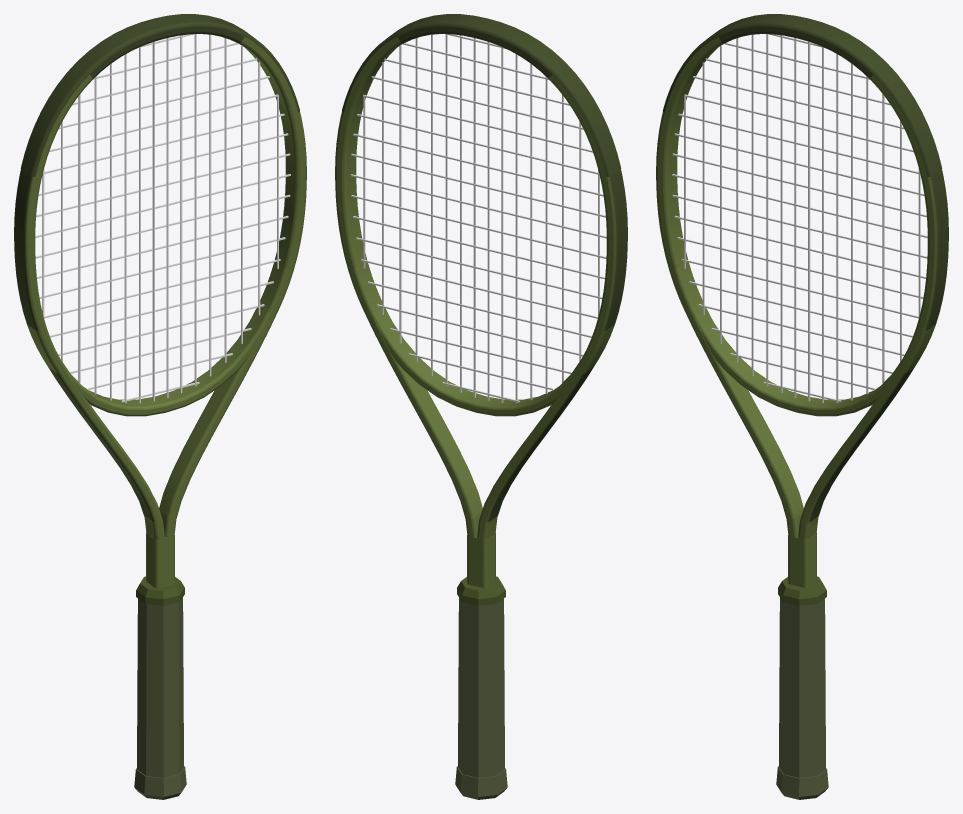
Rendered from prince-phantom-100x-305g-2024.glb.
3 views of the same model, side by side, from view 1: azimuth 30°, elevation 25°; view 2: azimuth 150°, elevation 25°; view 3: azimuth 330°, elevation 25° (orthographic).
Visible parts, largest first — view 1: frame, strings_mains, strings_crosses, grip, bumper, butt_cap, collar; view 2: frame, strings_mains, strings_crosses, grip, bumper, butt_cap, collar; view 3: frame, strings_mains, strings_crosses, grip, bumper, butt_cap, collar.
Part boxes in pixels (<box>): frame: <box>14,26,306,588</box>; strings_mains: <box>42,34,278,403</box>; strings_crosses: <box>35,34,290,402</box>; grip: <box>137,598,183,777</box>; bumper: <box>20,14,299,176</box>; butt_cap: <box>134,766,186,799</box>; collar: <box>136,576,184,605</box>; frame: <box>335,26,627,588</box>; strings_mains: <box>363,34,599,403</box>; strings_crosses: <box>350,34,606,402</box>; grip: <box>458,598,504,777</box>; bumper: <box>342,14,621,176</box>; butt_cap: <box>455,766,507,799</box>; collar: <box>457,576,505,605</box>; frame: <box>656,26,948,588</box>; strings_mains: <box>684,34,920,403</box>; strings_crosses: <box>672,34,927,402</box>; grip: <box>779,598,825,777</box>; bumper: <box>663,14,942,176</box>; butt_cap: <box>776,766,828,799</box>; collar: <box>778,576,826,605</box>.
Size of the model in its own units: 0.2649 by 0.6861 by 0.0396.
